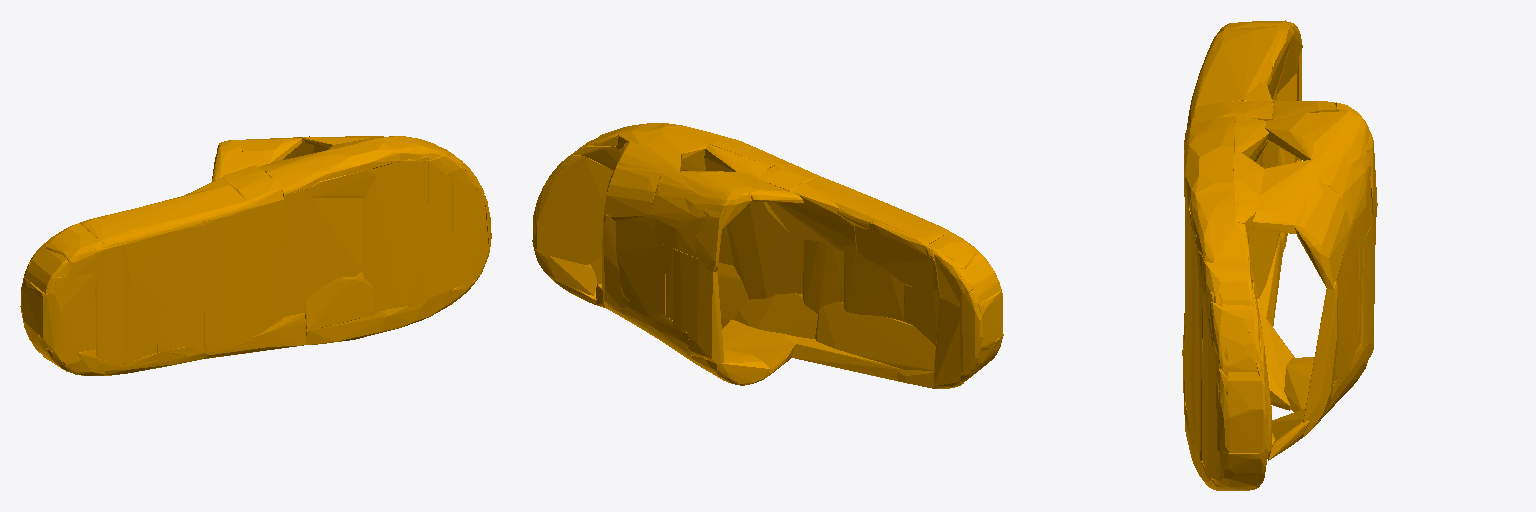
robot.urdf — shoe-sky:
<?xml version="1.0" ?>
<robot name="shoe-sky">
  <link name="baseLink">
    <contact>
      <lateral_friction value="1.0"/>
      <inertia_scaling value="3.0"/>
    </contact>
    <inertial>
      <origin rpy="0 0 0" xyz="0.000 0.000 0.000"/>
       <mass value=".1"/>
       <inertia ixx="1" ixy="0.0" ixz="0.0" iyy="1" iyz="0.0" izz="1"/>
    </inertial>
    <visual>
      <origin rpy="0 0 0" xyz="0 0 0"/>
      <geometry>
        <mesh filename="shoe/shoe-sky_blue_250_right.obj" scale="1.0 1.0 1.0"/>
      </geometry>
    </visual>
    <collision>
      <origin rpy="0 0 0" xyz="0 0 0"/>
      <geometry>
        <mesh filename="../collision/shoe/shoe-sky_blue_250_right.obj" scale="1.0 1.0 1.0"/>
      </geometry>
    </collision>
  </link>
</robot>
        

--- Render facts (derived) ---
3 views of the same robot in one strip: view 1: azimuth 30°, elevation 25°; view 2: azimuth 150°, elevation 25°; view 3: azimuth 270°, elevation 25° (orthographic).
Robot: shoe-sky — 1 links, 0 joints (none); root link baseLink; default pose: all joints at 0.
Links seen in each view (by area): view 1: baseLink; view 2: baseLink; view 3: baseLink.
Boxes of the visible links, bbox=[...] form: baseLink: bbox=[20, 136, 491, 375]; baseLink: bbox=[532, 123, 1003, 388]; baseLink: bbox=[1182, 20, 1377, 490].
Size in the robot's own frame: 0.2412 by 0.0623 by 0.1009 metres.
1 mesh visuals loaded from 1 distinct referenced files (1 OBJ).